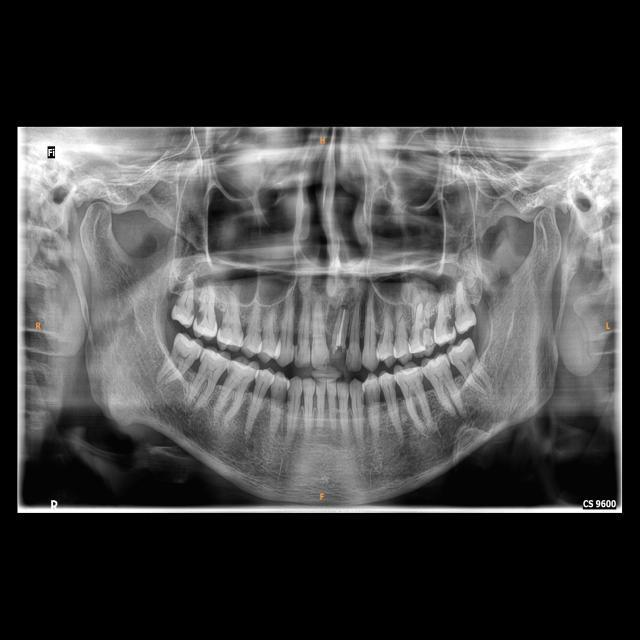dentin-curugu: (190, 299, 210, 329), (460, 351, 478, 377), (442, 313, 456, 336), (418, 324, 429, 348)
kanal-tedavisi: (332, 305, 348, 346)
kirik: (332, 342, 347, 357)
